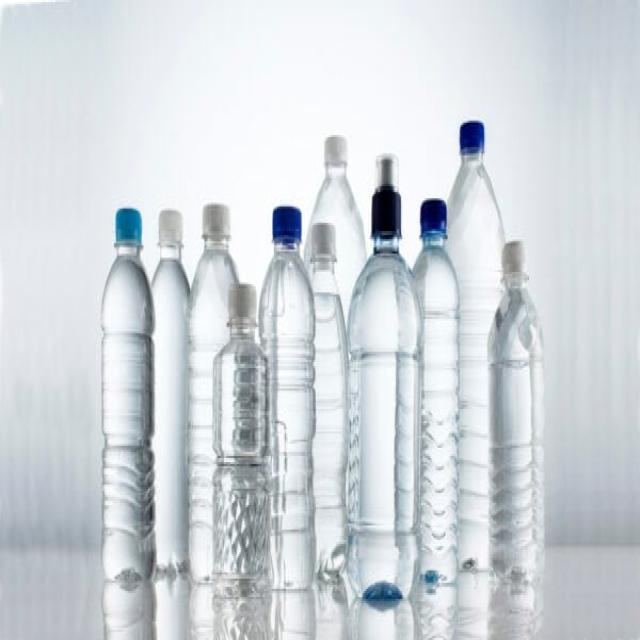bottom: (211, 472, 271, 585), (343, 523, 415, 610), (92, 528, 160, 593), (312, 499, 346, 592), (274, 521, 314, 597), (453, 499, 488, 583), (488, 547, 550, 588), (157, 518, 189, 586), (191, 514, 216, 596), (420, 540, 452, 591)
cap: (356, 133, 406, 250), (413, 187, 448, 253), (266, 202, 300, 260), (151, 204, 188, 256), (113, 204, 149, 257), (224, 281, 262, 331), (496, 235, 530, 288), (457, 116, 487, 167), (203, 195, 228, 255), (310, 220, 339, 267), (318, 134, 348, 174)
